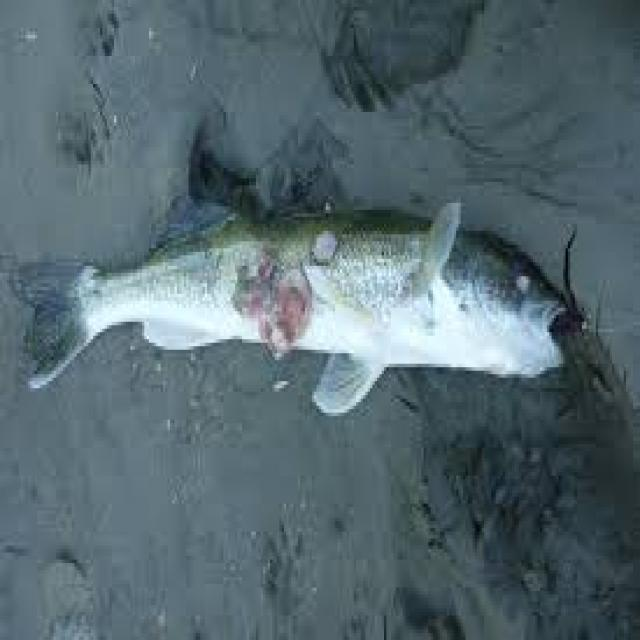EUS Disease: (19, 202, 578, 418), (214, 217, 370, 355)
